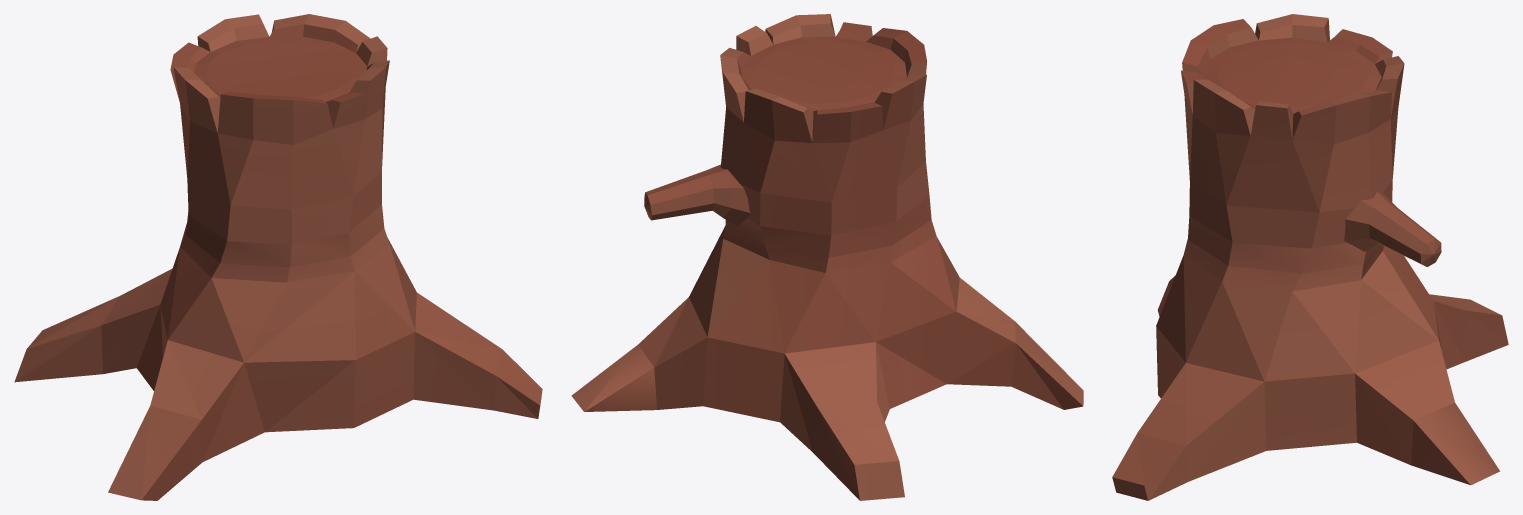
File: Tronco de arvore_chão.fbx
3 renders of one model, left to right at view 1: azimuth 30°, elevation 25°; view 2: azimuth 150°, elevation 25°; view 3: azimuth 270°, elevation 25°, orthographic. The views are drawn at different scales.
Visible parts, largest first — view 1: Tronco cortado; view 2: Tronco cortado; view 3: Tronco cortado.
Boxes of the visible parts, left/top/right/bottom form: Tronco cortado: left=14, top=14, right=542, bottom=500; Tronco cortado: left=571, top=14, right=1083, bottom=500; Tronco cortado: left=1112, top=14, right=1508, bottom=500.
Bounding box in the file's own units: 84.53 × 69.64 × 69.35.
